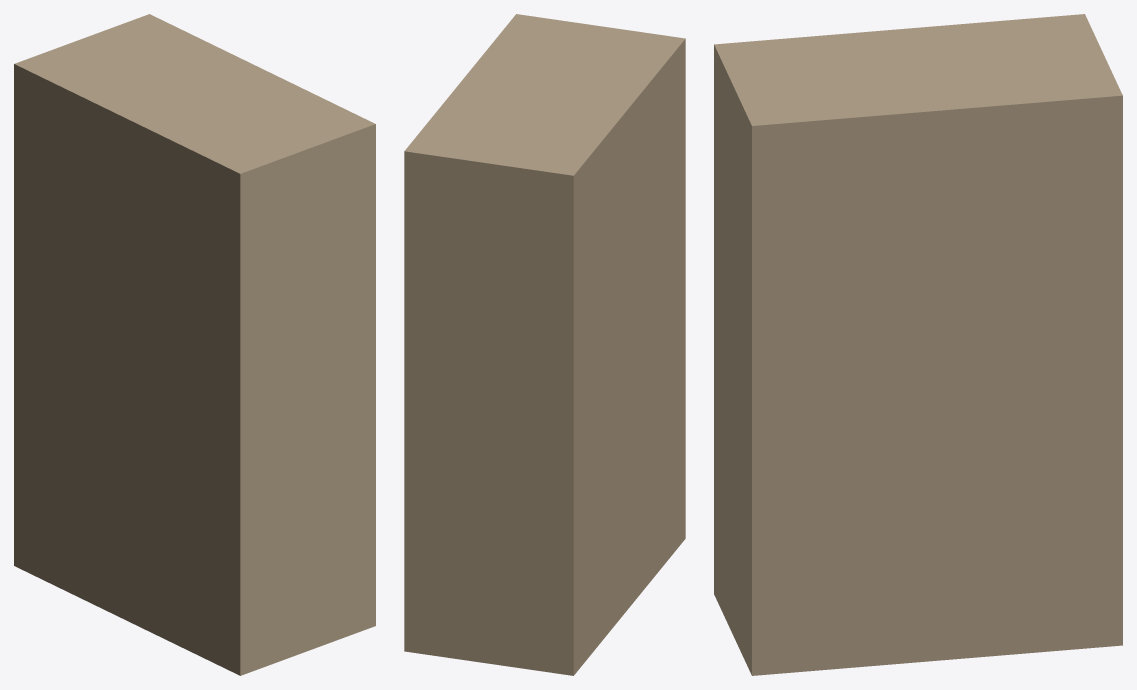
Rendered from bld_393483741.dae.
3 renders of one model, left to right at view 1: azimuth 30°, elevation 25°; view 2: azimuth 150°, elevation 25°; view 3: azimuth 270°, elevation 25°, orthographic. The views are drawn at different scales.
Parts seen in each view (by area): view 1: bld_393483741; view 2: bld_393483741; view 3: bld_393483741.
Part boxes in pixels (x1=…): bld_393483741: x1=14, y1=14, x2=375, y2=675; bld_393483741: x1=404, y1=14, x2=685, y2=675; bld_393483741: x1=714, y1=14, x2=1122, y2=675.
Bounding box in the file's own units: 3.5 × 5.39 × 8.
